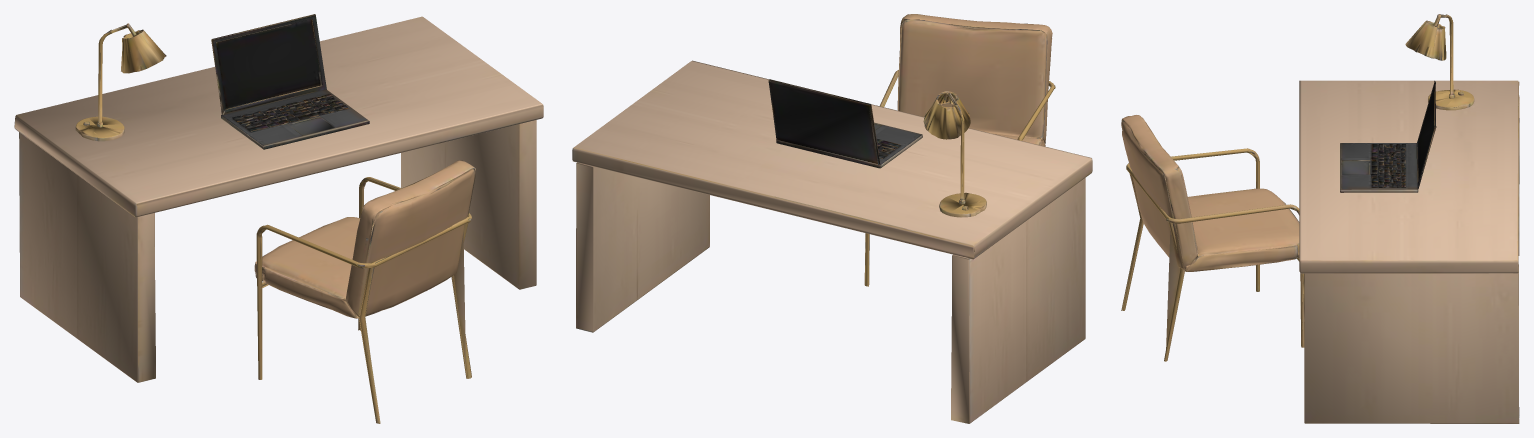
File: desk-office.glb
3 views of the same model, side by side, from view 1: azimuth 30°, elevation 25°; view 2: azimuth 150°, elevation 25°; view 3: azimuth 270°, elevation 25° (orthographic). The views are drawn at different scales.
Bounding box in the file's own units: 0.9512 × 0.6451 × 0.8858.
1 material, 1 textured.
